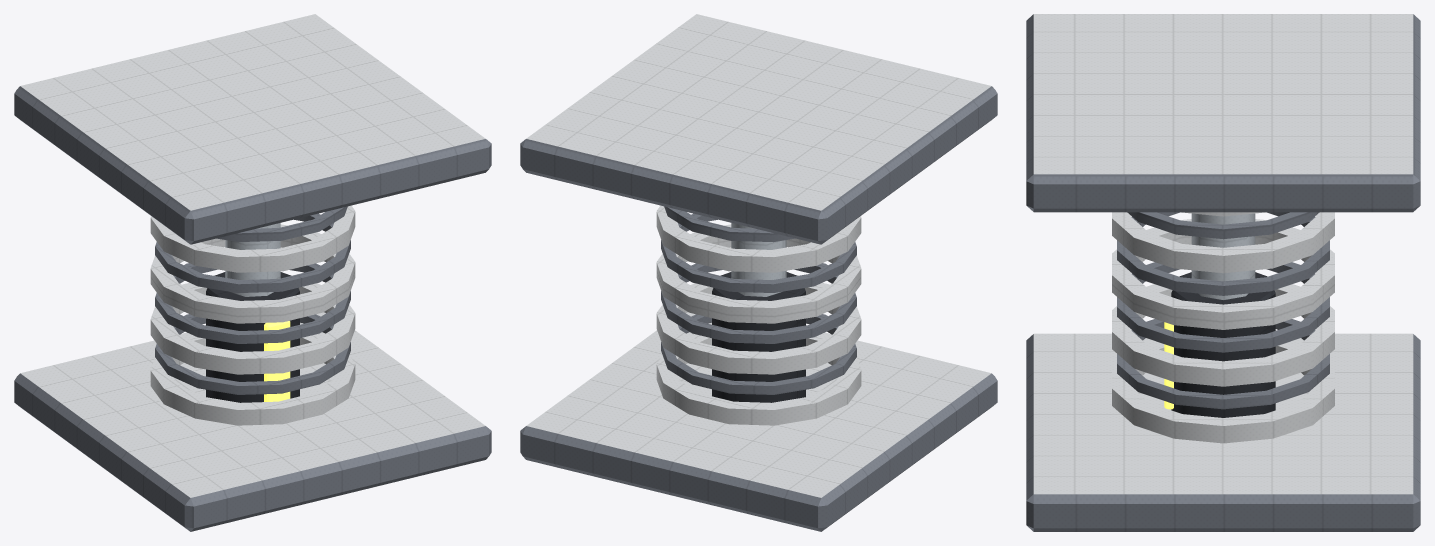
Rendered from R4X_Suspension_LOD1.glb.
3 views of the same model, side by side, from view 1: azimuth 30°, elevation 25°; view 2: azimuth 150°, elevation 25°; view 3: azimuth 270°, elevation 25° (orthographic). The views are drawn at different scales.
Visible parts, largest first — view 1: R4X_Suspension_LOD1; view 2: R4X_Suspension_LOD1; view 3: R4X_Suspension_LOD1.
Boxes of the visible parts, box(x1,y1,x2,y2) form: R4X_Suspension_LOD1: box(14, 14, 491, 531); R4X_Suspension_LOD1: box(520, 14, 997, 531); R4X_Suspension_LOD1: box(1026, 14, 1420, 531).
Size of the model in its own units: 0.52 by 0.52 by 0.52.
5 materials, 4 textured.
